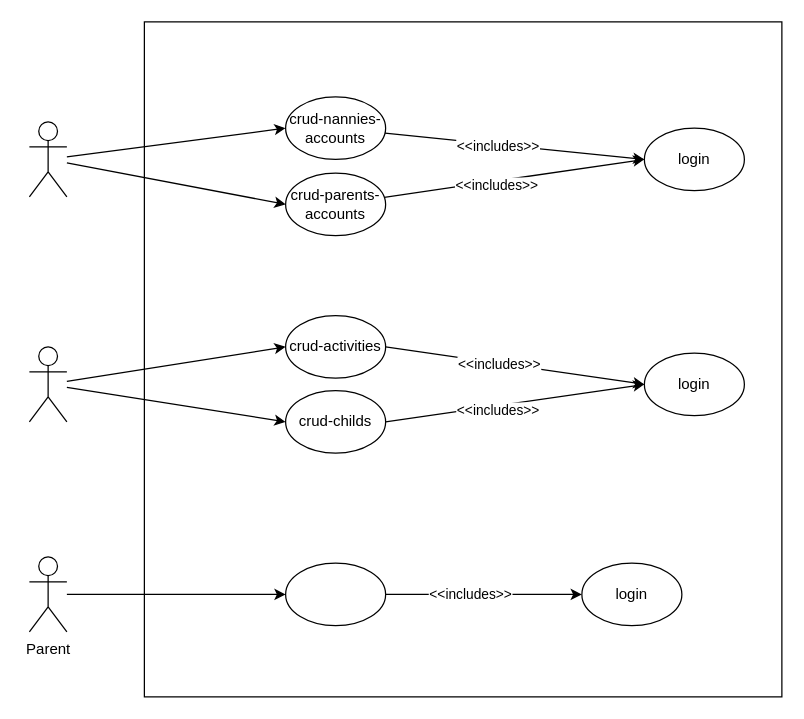
The diagram is 804 pixels wide and 719 high, and some of its shapes have lost their labels. The shapes that lost their labels are listed below. From the top down, each one's centre as x and y in pixels, then its label:
point 47,159: Director
point 47,384: Nanny
point 335,594: read-childs
